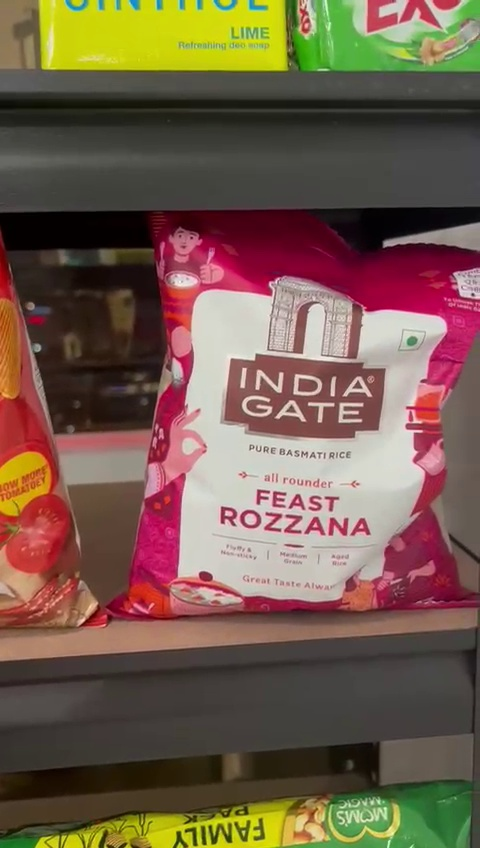India Gate Feast Rozzana: (155, 216, 469, 609)
